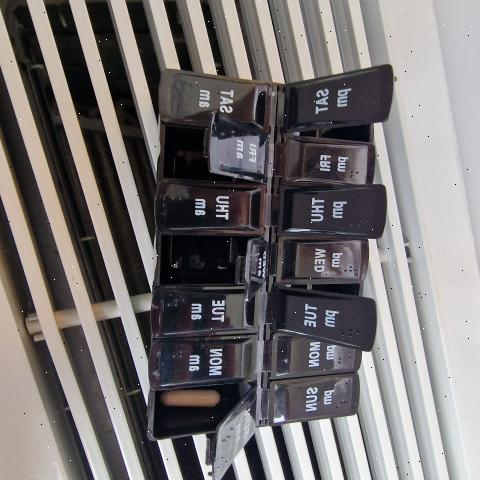Open: (155, 379, 251, 465), (158, 116, 259, 186), (162, 231, 249, 288), (290, 117, 385, 142), (276, 282, 379, 303)
